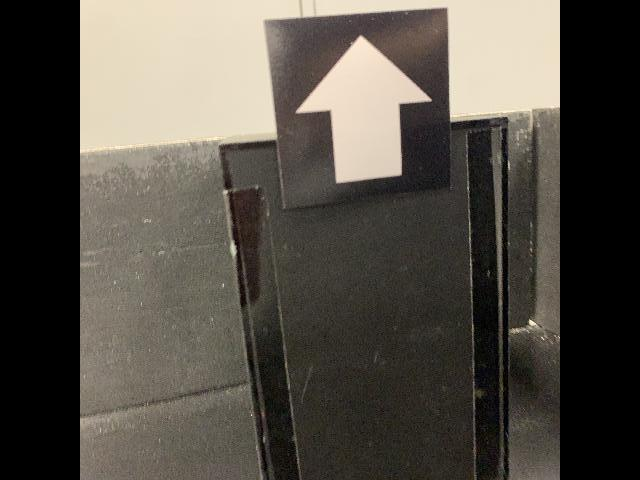up: (262, 7, 454, 213)
